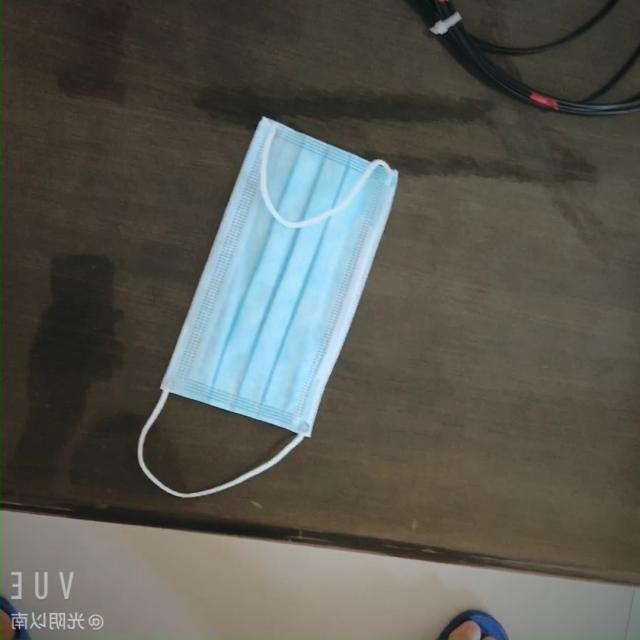face mask: (150, 100, 390, 436)
